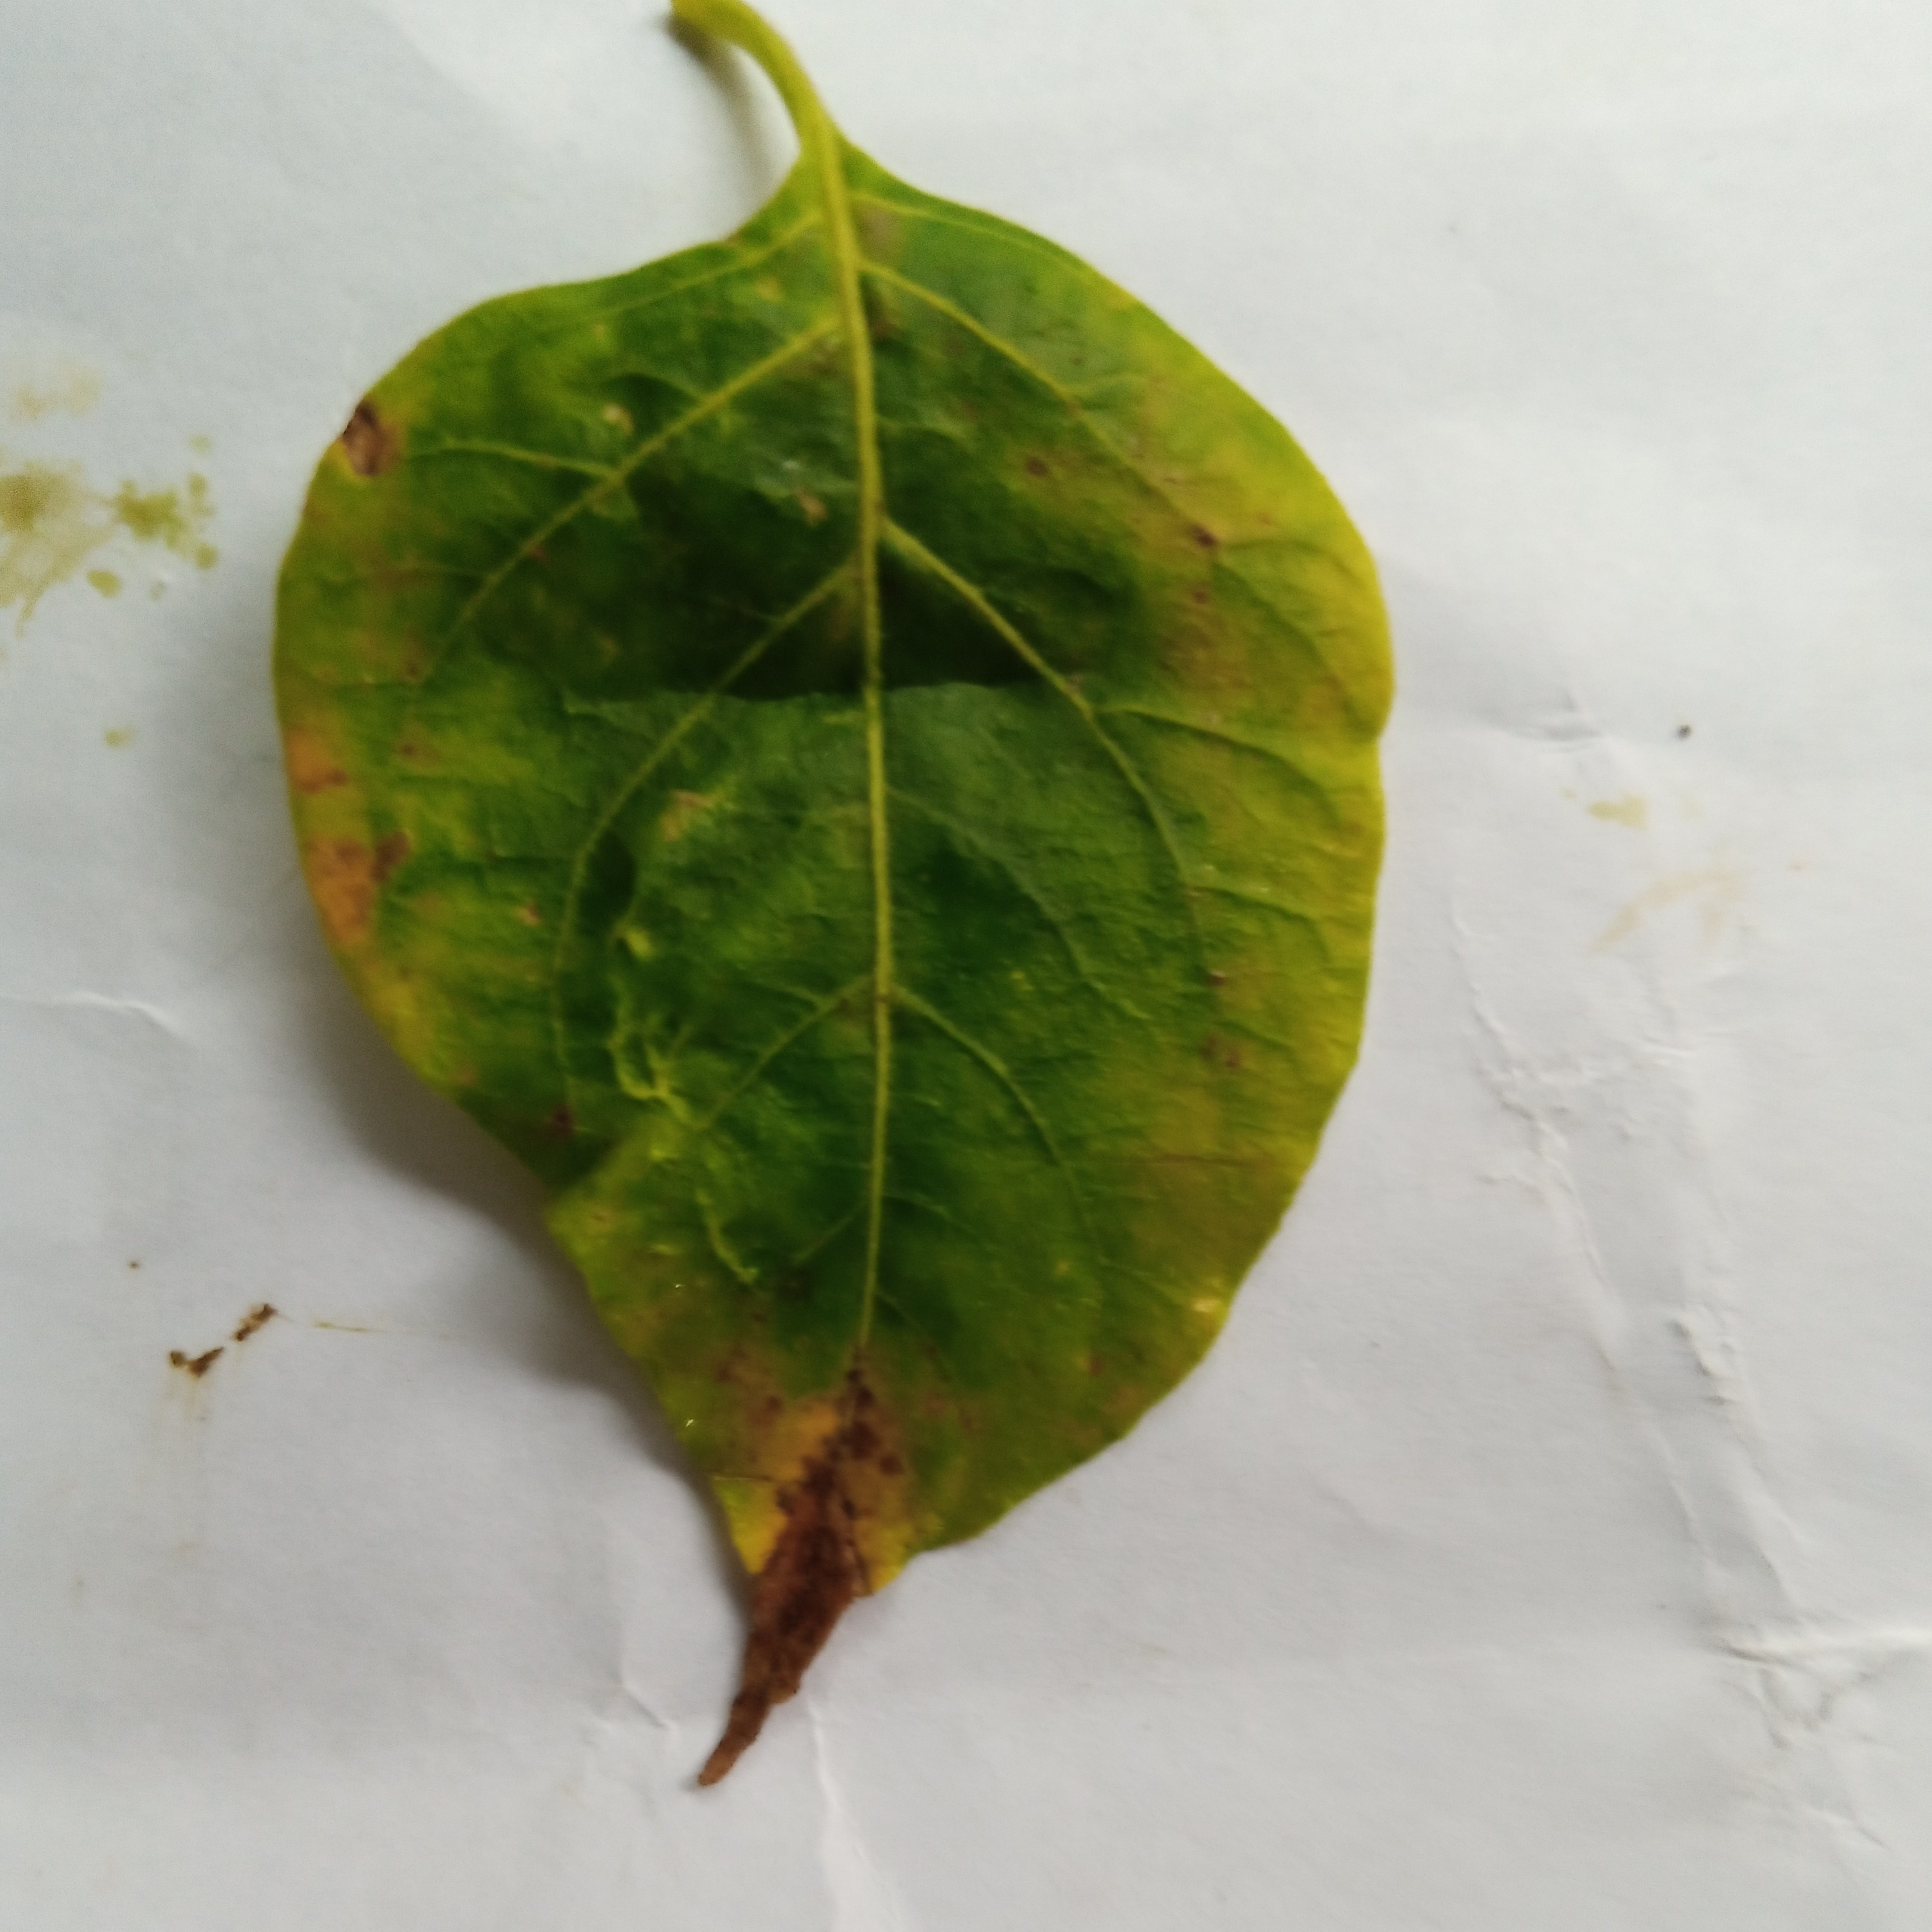Leaf: (198, 101, 1461, 1881)
